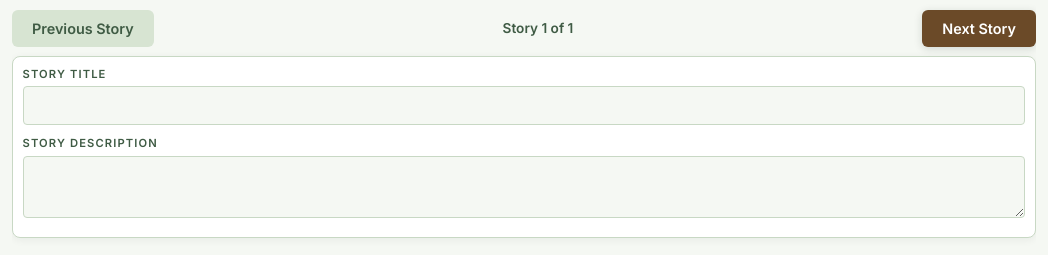
Scenario: PointingPokerRounds › moves between existing stories without losing edits
Type "Changed Login" into the field labelled "Story Title" at [524, 106], box [23, 86, 1025, 125]
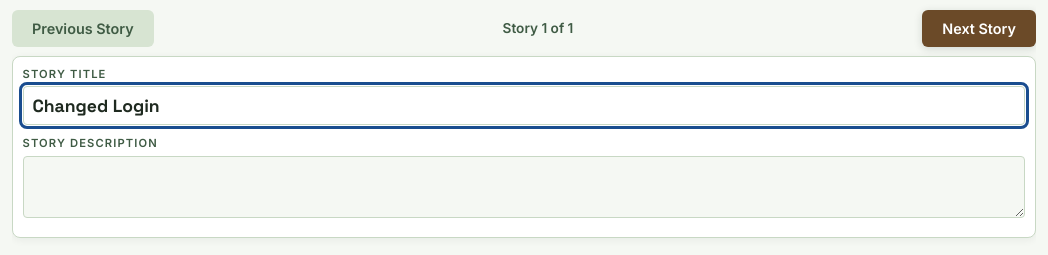
Click the button "Next Story" at [979, 28], box [922, 10, 1036, 47]
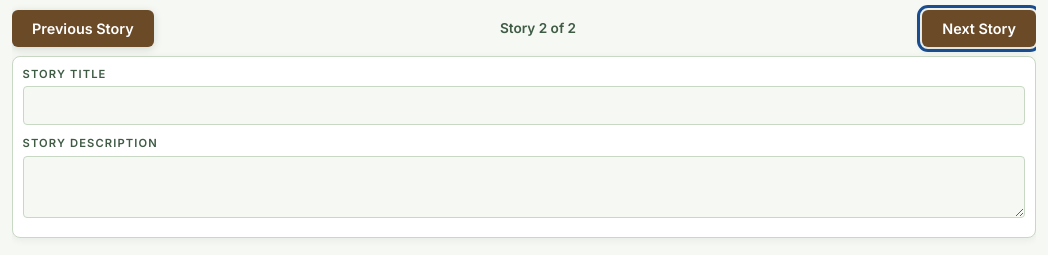
Check: the text "Story 2 of 2" is shown, box [500, 20, 576, 36]
Check: the field labelled "Story Title" is empty, box [23, 86, 1025, 125]
Click the button "Previous Story" at [83, 28], box [12, 10, 154, 47]
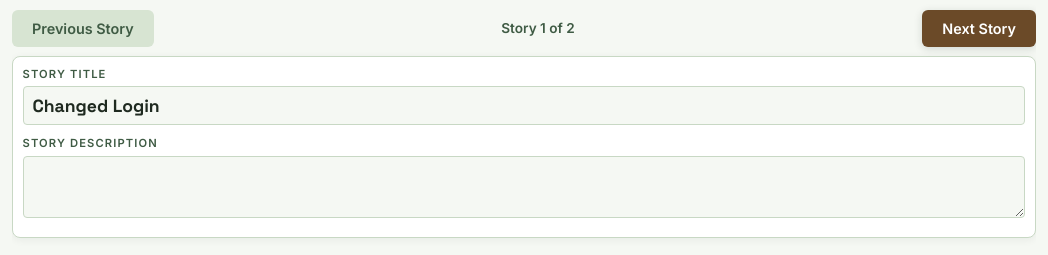
Check: the text "Story 1 of 2" is shown, box [501, 20, 575, 36]
